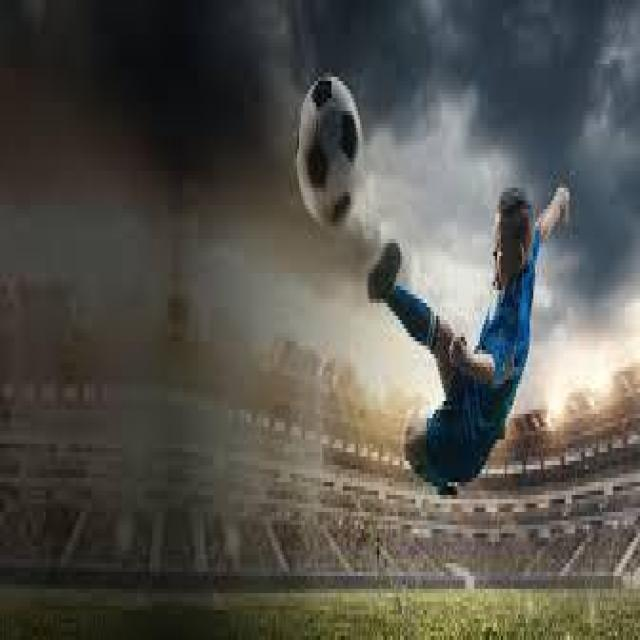Soccer Ball: (297, 72, 360, 230)
